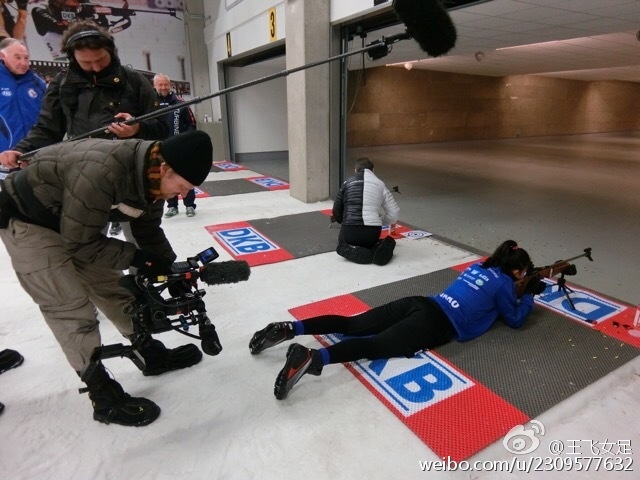falling: (243, 233, 554, 403)
